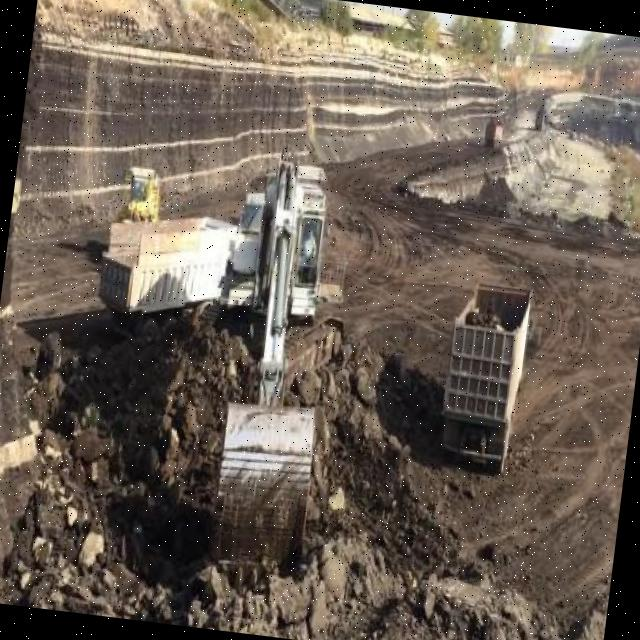Dump Truck: (432, 271, 538, 474), (90, 195, 242, 335)
Excavator: (188, 140, 363, 574)
